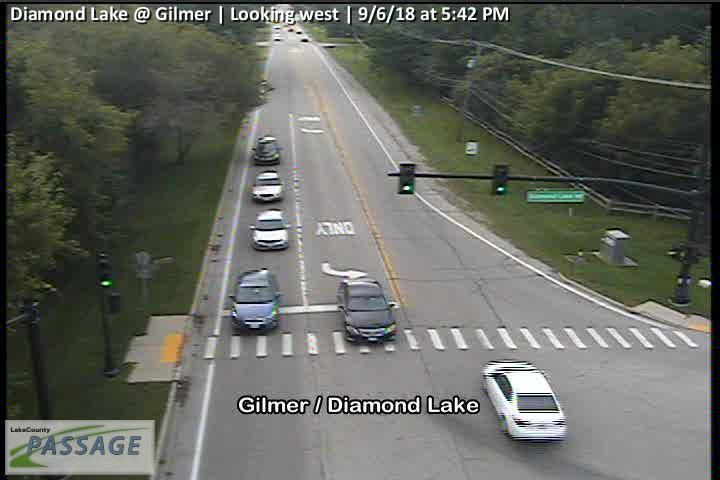SUV: (336, 277, 397, 344), (230, 268, 282, 334), (251, 171, 284, 201), (251, 136, 282, 166)
Sedan: (481, 360, 568, 443), (248, 209, 292, 250)
